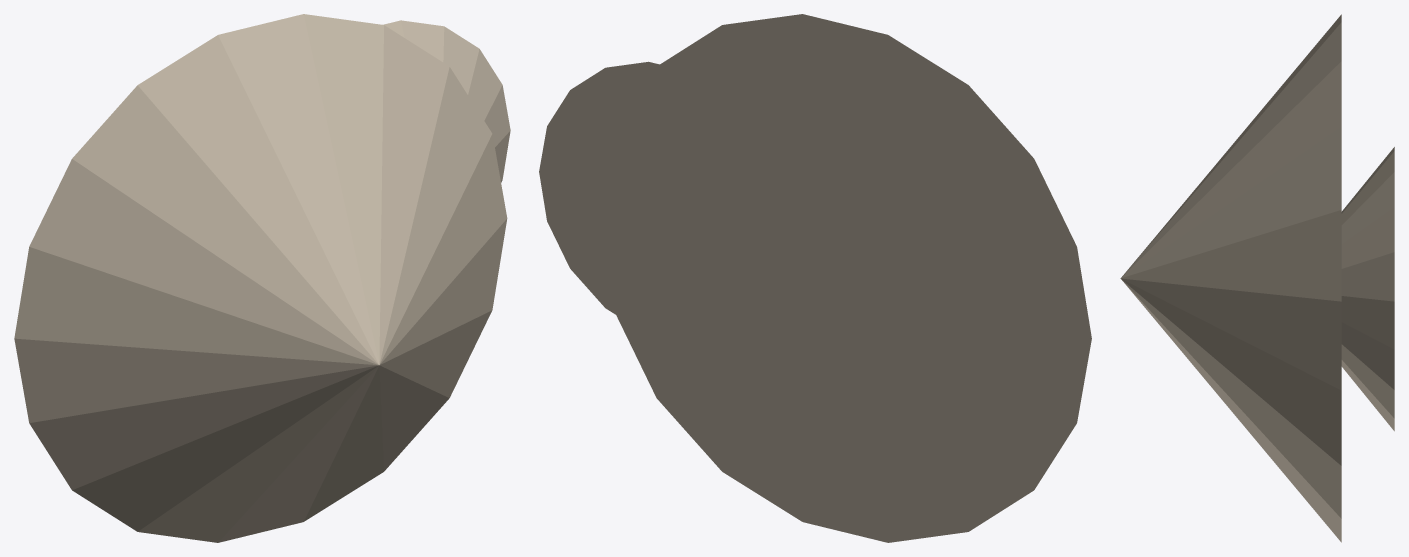
File: construction-aggregate-pile_lod1.glb
3 renders of one model, left to right at view 1: azimuth 30°, elevation 25°; view 2: azimuth 150°, elevation 25°; view 3: azimuth 270°, elevation 25°, orthographic. The views are drawn at different scales.
Visible parts, largest first — view 1: world; view 2: world; view 3: world.
Part boxes in pixels (x1,y1,x2,y2): world: [14, 14, 510, 542]; world: [539, 14, 1091, 542]; world: [1120, 14, 1394, 542].
Size of the model in its own units: 1.66 by 1.54 by 0.805.
